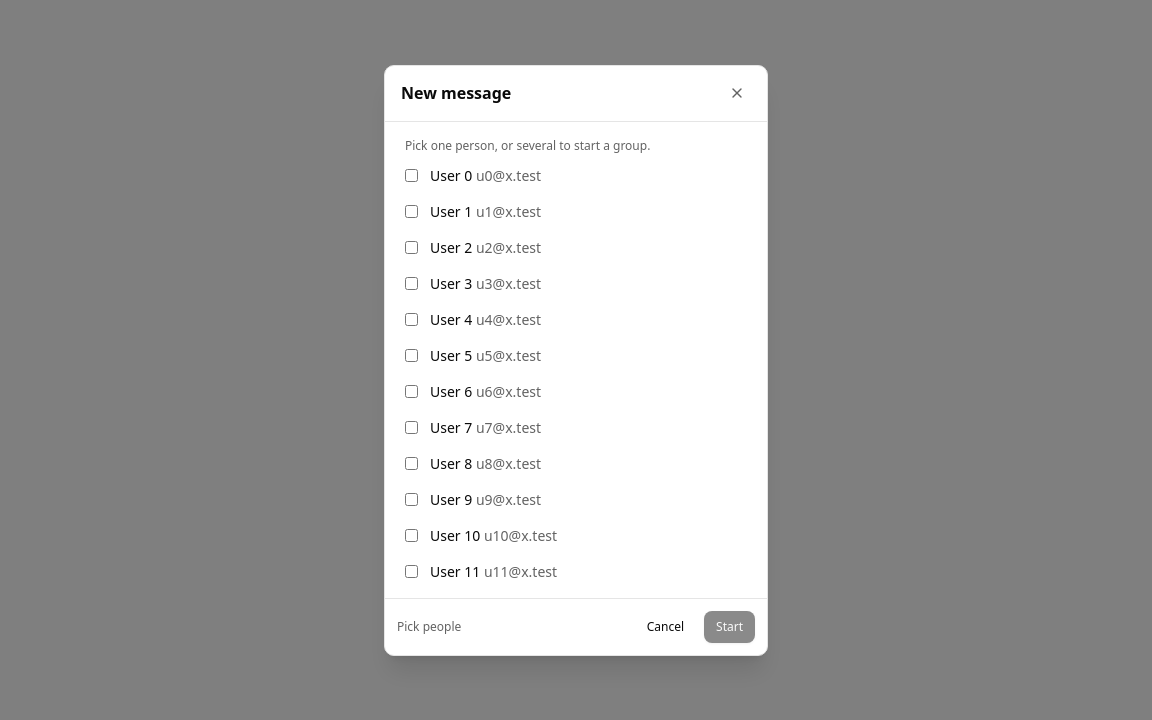
Test case: NewDmDialog › retitles itself once it's a group
Expected: the heading "New message" is shown, 401,81 -> 511,105
What coordinates should you click on to do the following:
click the checkbox labelled "User 0 u0@x.test"
I would click on:
 (412, 176)
Its box is 405,169 -> 418,182.
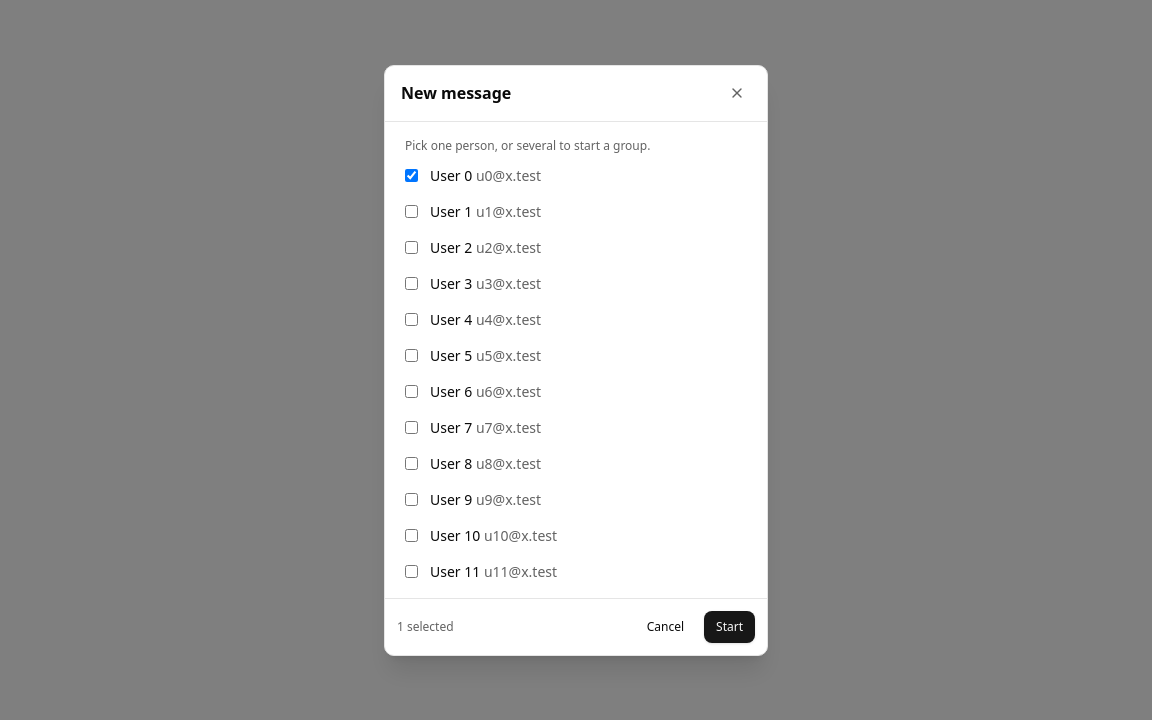
What coordinates should you click on to do the following:
click the checkbox labelled "User 1 u1@x.test"
I would click on:
 (412, 212)
Its box is 405,205 -> 418,218.
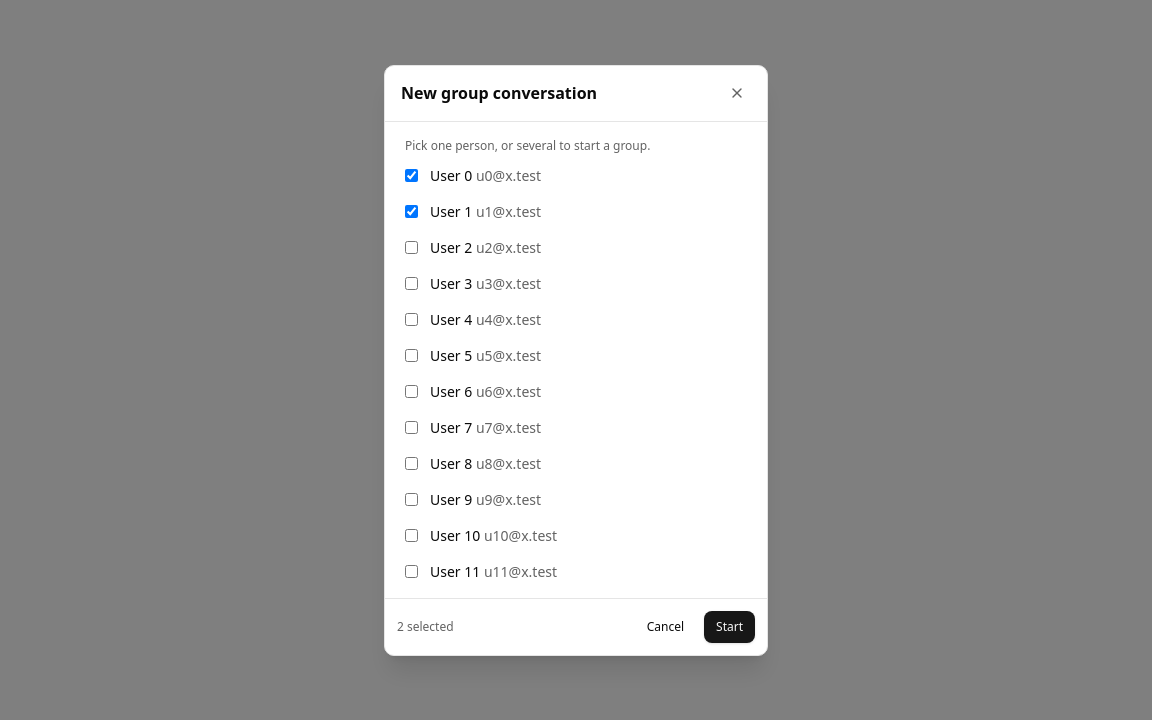
Expected: the heading "New group conversation" is shown, 401,81 -> 597,105
